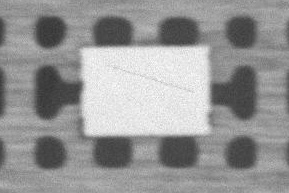DIE_CRACK: (162, 43, 289, 61)
